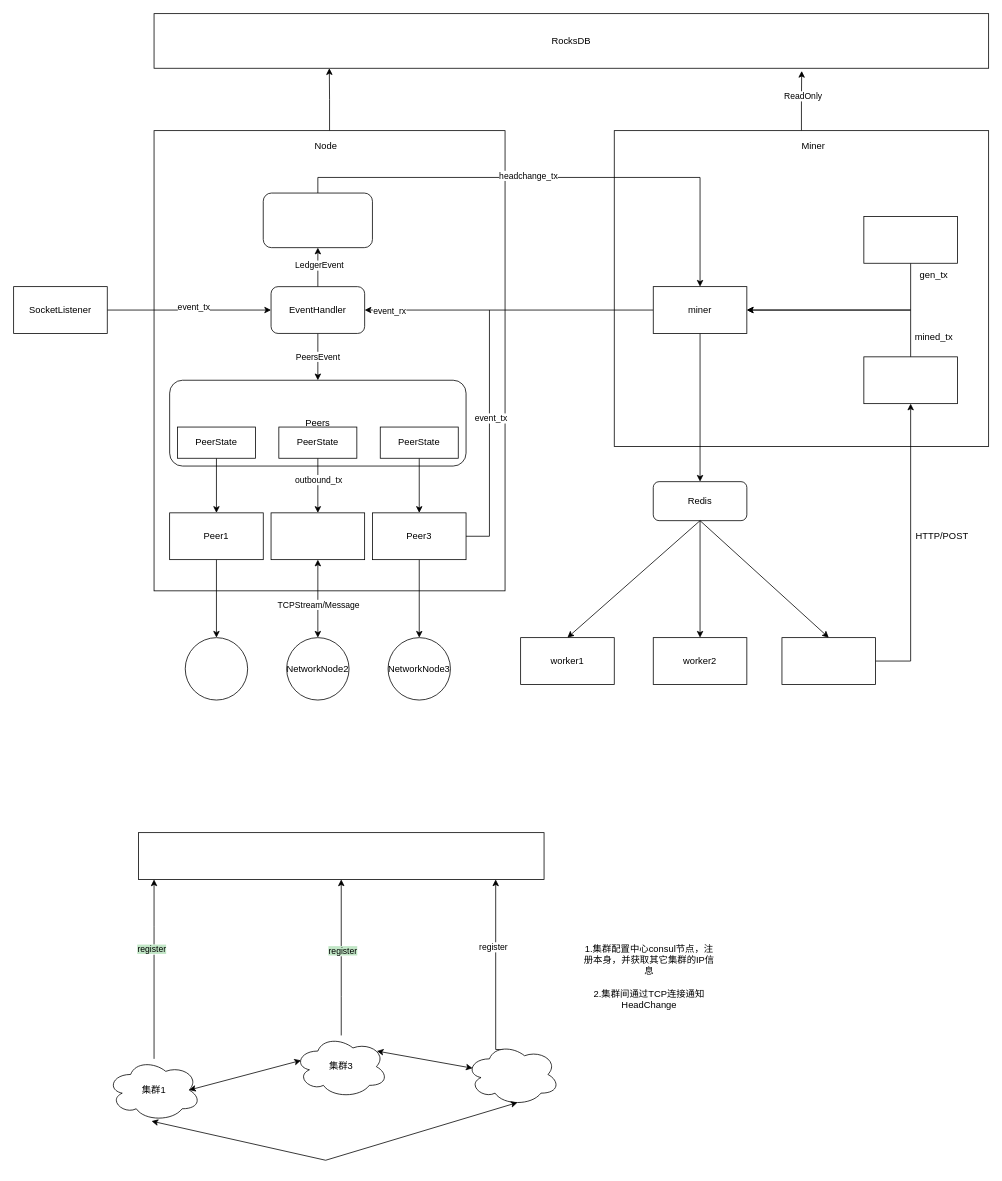
Image size: 1002x1181. Some labels were removed from this diagram. Here are the shapes that lost their labels. From the top down, the box of each, then its label:
(262, 192, 372, 248): Ledger
(863, 216, 957, 263): coinbase_gen
(863, 356, 957, 404): collector
(270, 512, 365, 560): Peer2
(184, 637, 248, 700): NetworkNode1
(781, 637, 876, 684): worker3
(138, 832, 544, 879): Consul 服务注册和发现
(465, 1042, 560, 1106): 集群2
